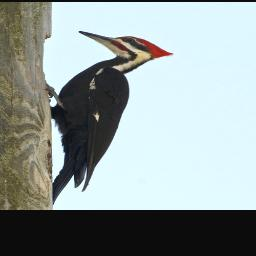Woodpecker: (48, 29, 179, 192)
